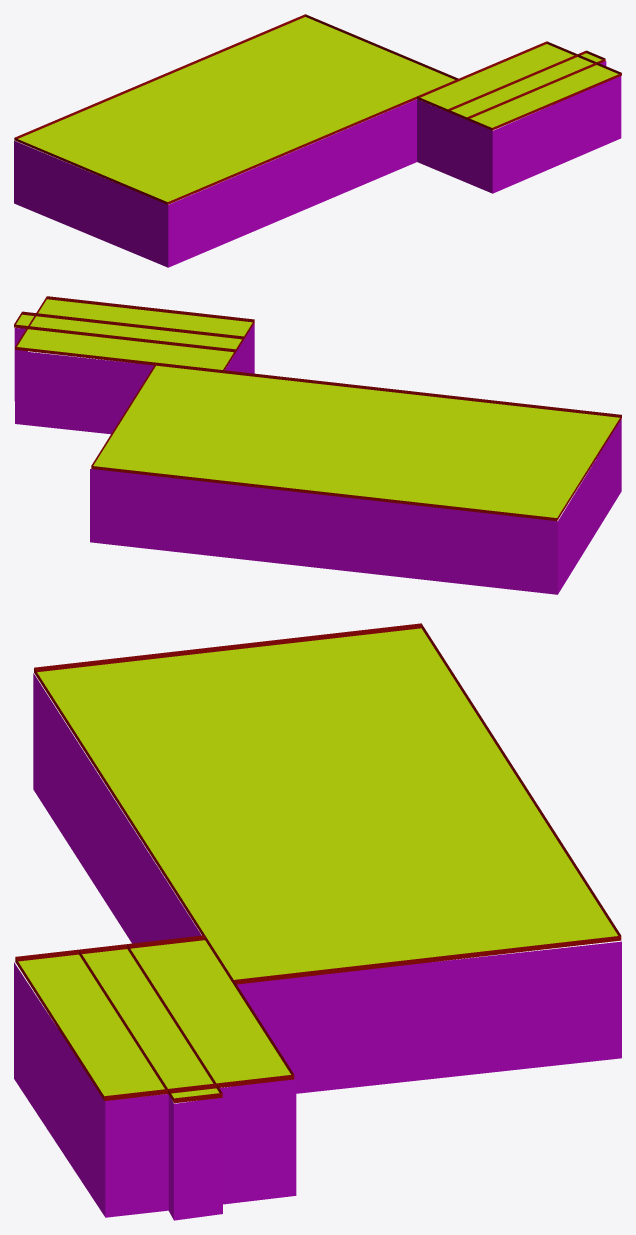
Rendered from sbl_10.glb.
3 views of the same model, one above another, from view 1: azimuth 30°, elevation 25°; view 2: azimuth 150°, elevation 25°; view 3: azimuth 270°, elevation 25° (orthographic). The views are drawn at different scales.
Visible parts, largest first — view 1: sbl_10; view 2: sbl_10; view 3: sbl_10.
Boxes of the visible parts, x1=… form: sbl_10: x1=14, y1=14, x2=621, y2=267; sbl_10: x1=14, y1=296, x2=621, y2=594; sbl_10: x1=14, y1=623, x2=621, y2=1220.
Bounding box in the file's own units: 72.14 × 8.6 × 38.94.
